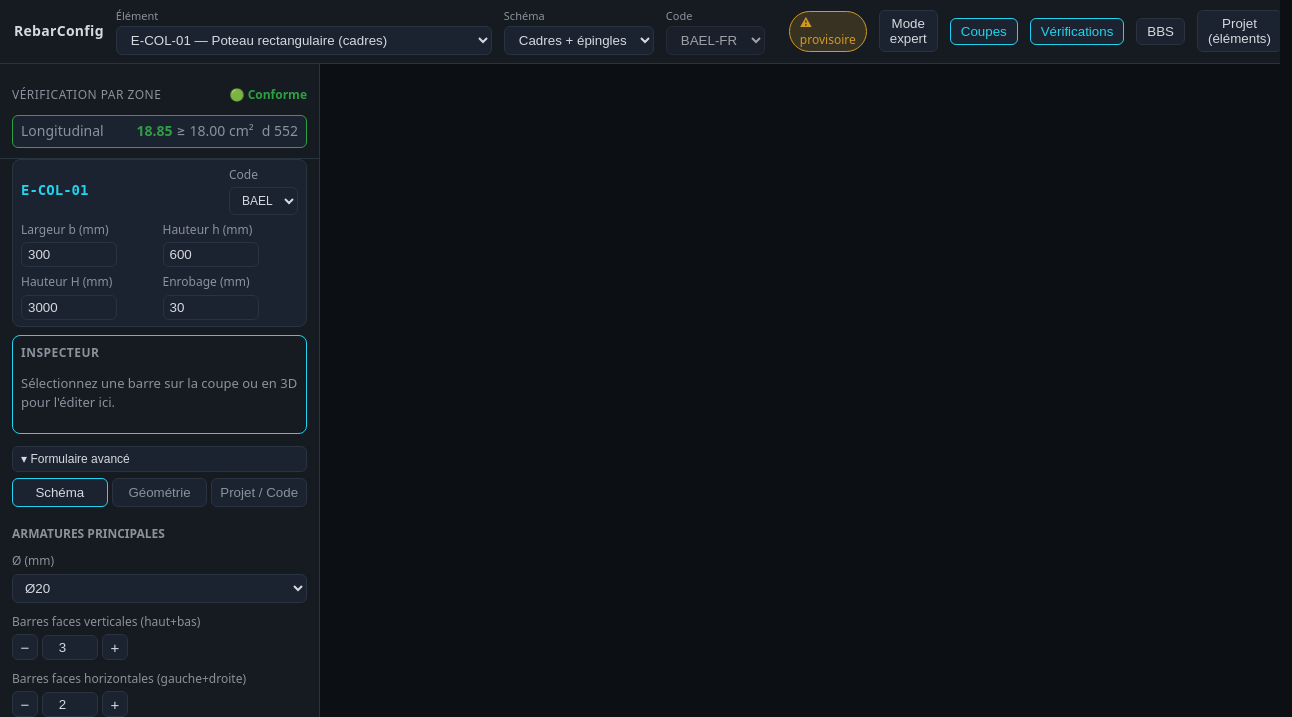
Test: P3 catalog + supplements UI › switching the element to the beam reveals beam-specific controls
Check: the text "Barres faces verticales (haut+bas)" is shown, box [12,613,200,630]
Select "E-BEM-01 — Poutre rectangulaire" in the dropdown labelled "Élément": (304, 40) [116,26,492,55]
(page scrolled)
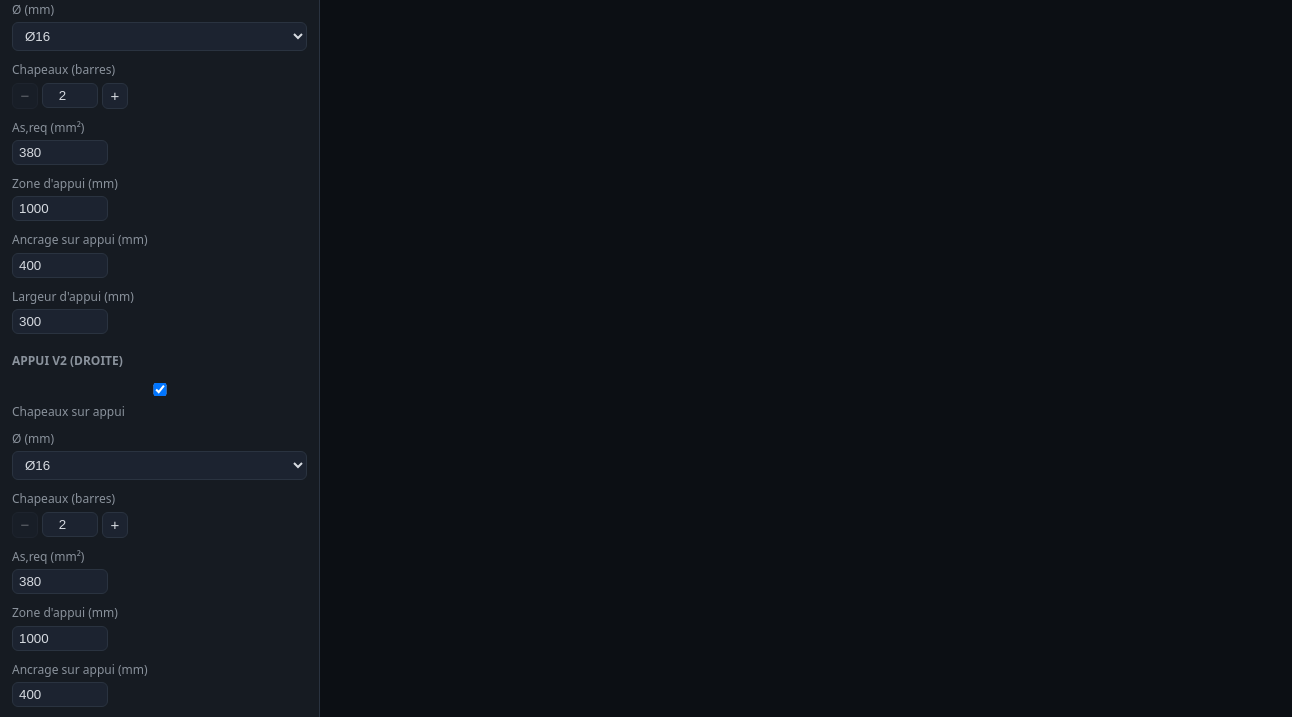
Check: the heading "Appui V2 (droite)" is shown, box [12,352,123,369]
